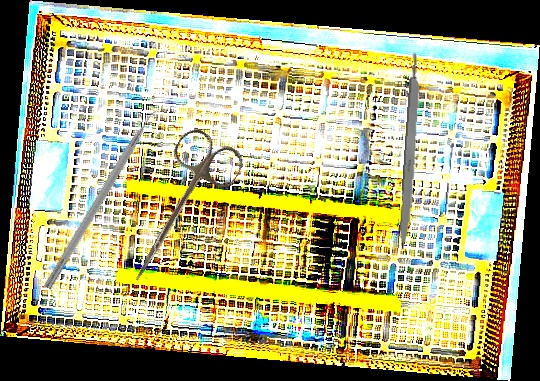Chopper: (43, 100, 172, 297)
Iris Scissors: (109, 123, 249, 299)
Scalpel Handle: (397, 50, 425, 251)
